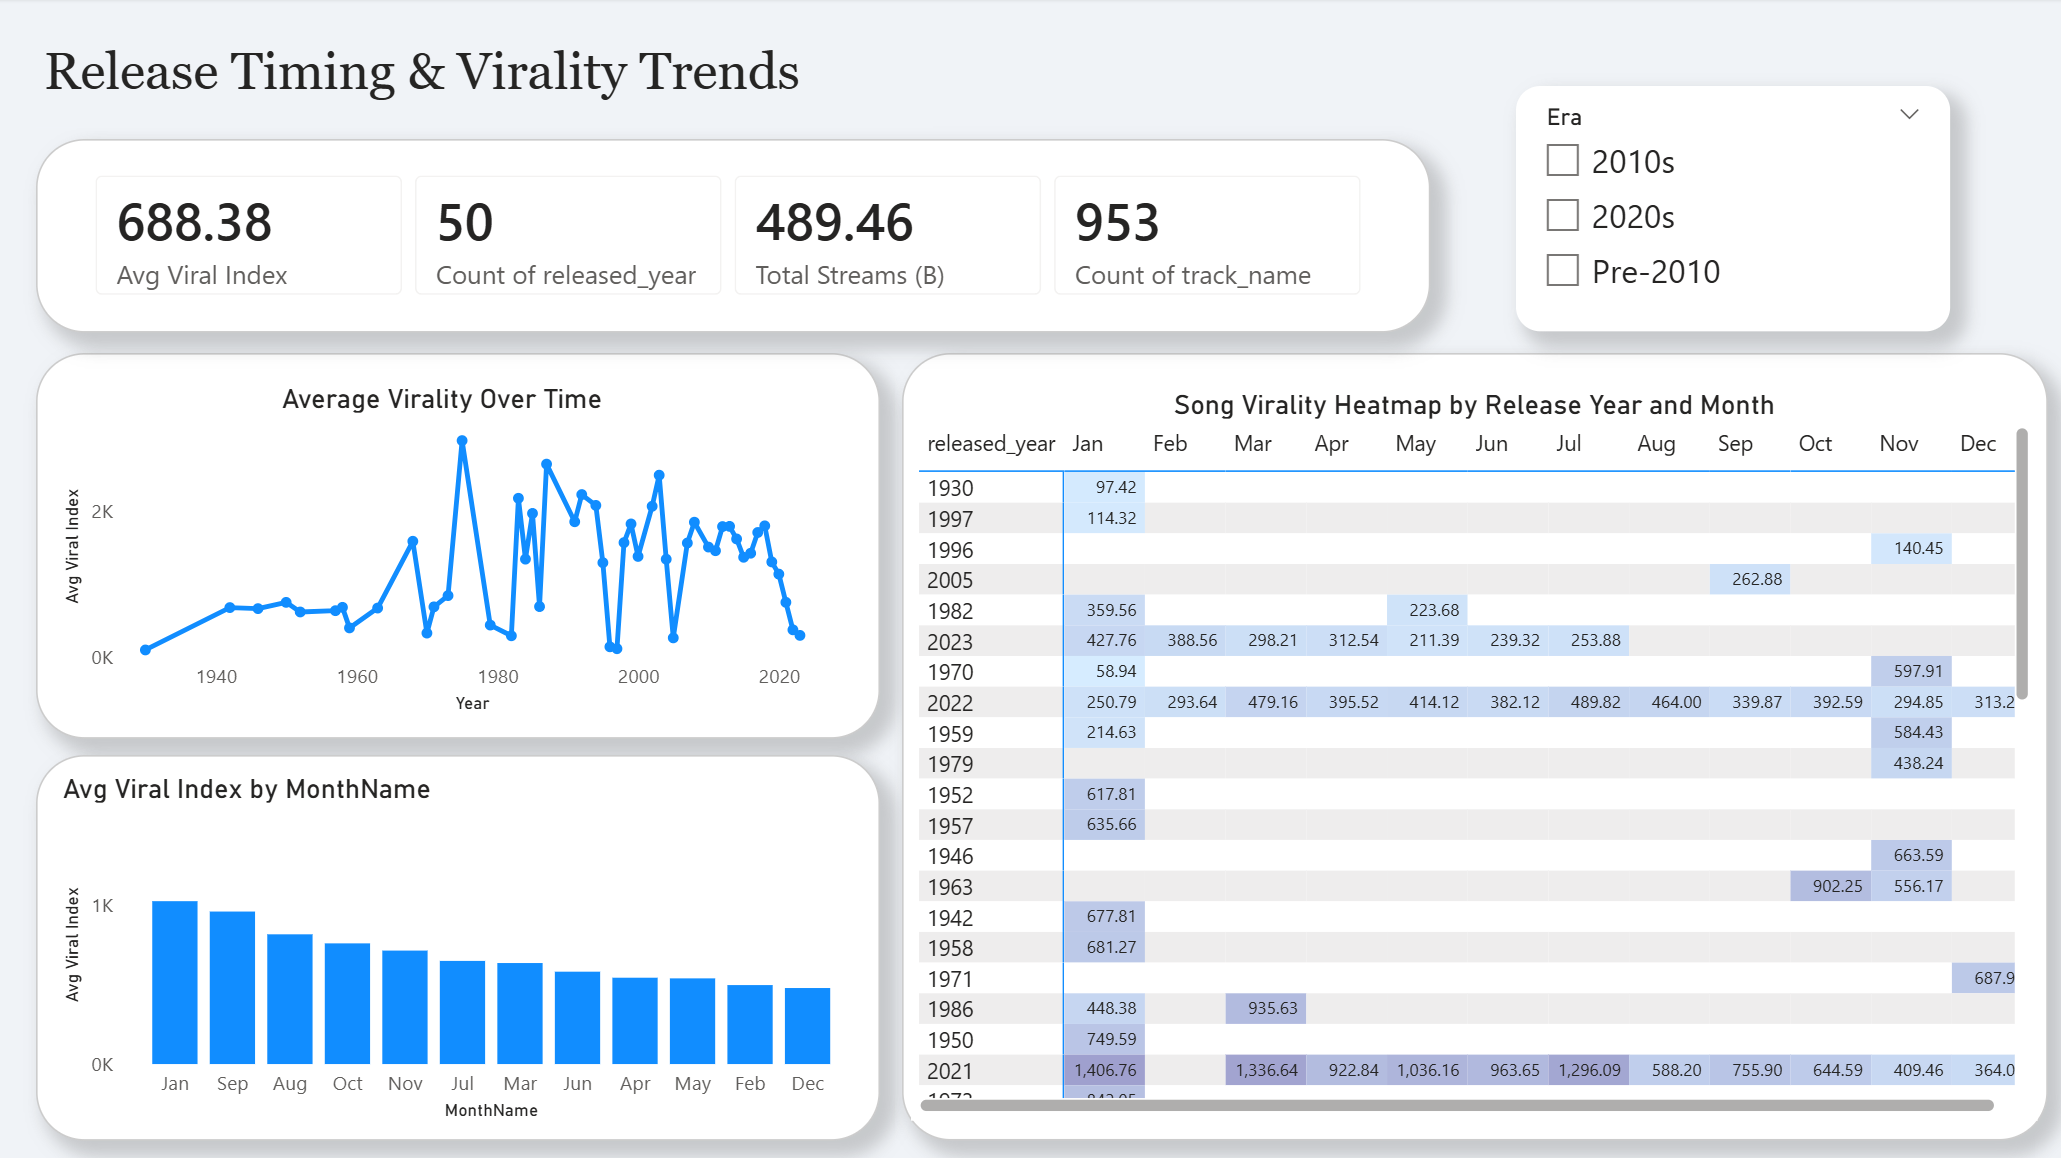

What the dashboard file says about the page in this screenshot:
{"tool":"powerbi","page":{"name":"Release Timing & Virality Trends","canvas":[1280,720],"ordinal":0},"visuals":[{"type":"shape","box":[22.9,220,523,238.6],"z":0},{"type":"shape","box":[22.9,469.1,523,238.6],"z":1000},{"type":"lineChart","title":"Average Virality Over Time","fields":{"Category":["Popular_Spotify_Songs.ReleaseDate.Variation.Date Hierarchy.Year","Popular_Spotify_Songs.ReleaseDate.Variation.Date Hierarchy.Quarter","Popular_Spotify_Songs.ReleaseDate.Variation.Date Hierarchy.Month","Popular_Spotify_Songs.ReleaseDate.Variation.Date Hierarchy.Day"],"Y":["Popular_Spotify_Songs.Avg Viral Index"]},"box":[34.7,237.9,479.6,209.4],"z":2000},{"type":"shape","box":[559.5,220,710.1,487.6],"z":3000},{"type":"pivotTable","title":"Song Virality Heatmap by Release Year and Month","fields":{"Rows":["Popular_Spotify_Songs.released_year"],"Values":["Popular_Spotify_Songs.Avg Viral Index"],"Columns":["Popular_Spotify_Songs.MonthName"]},"box":[565.1,241.7,698.3,454.2],"z":4000},{"type":"columnChart","fields":{"Y":["Popular_Spotify_Songs.Avg Viral Index"],"Category":["Popular_Spotify_Songs.MonthName"]},"box":[34.7,479.6,500,220],"z":5000},{"type":"shape","box":[22.9,87.4,863.8,119.6],"z":6000},{"type":"cardVisual","fields":{"Data":["Popular_Spotify_Songs.Avg Viral Index","Count(Popular_Spotify_Songs.released_year)","Popular_Spotify_Songs.Total Streams (B)","CountNonNull(Popular_Spotify_Songs.track_name)"]},"box":[42.8,92.9,819.1,108.4],"z":7000},{"type":"textbox","box":[22.9,22.3,555.8,58.2],"z":8000},{"type":"slicer","fields":{"Values":["Popular_Spotify_Songs.Era"]},"box":[940.1,54.6,268.9,152.4],"z":9000}]}

Visuals, with their boxes in screenshot pixels (x1, y1, x2, y2), scaled from the page's 1280x720 canvas onto the 2061x1158 screenshot:
shape: (x1=37, y1=354, x2=879, y2=738)
shape: (x1=37, y1=754, x2=879, y2=1138)
"Average Virality Over Time" lineChart: (x1=56, y1=383, x2=828, y2=719)
shape: (x1=901, y1=354, x2=2044, y2=1138)
"Song Virality Heatmap by Release Year and Month" pivotTable: (x1=910, y1=389, x2=2034, y2=1119)
columnChart - Popular_Spotify_Songs.Avg Viral Index x Popular_Spotify_Songs.MonthName: (x1=56, y1=771, x2=861, y2=1125)
shape: (x1=37, y1=141, x2=1428, y2=333)
cardVisual - Popular_Spotify_Songs.Avg Viral Index x Count(Popular_Spotify_Songs.released_year): (x1=69, y1=149, x2=1388, y2=324)
textbox: (x1=37, y1=36, x2=932, y2=129)
slicer - Popular_Spotify_Songs.Era: (x1=1514, y1=88, x2=1947, y2=333)
